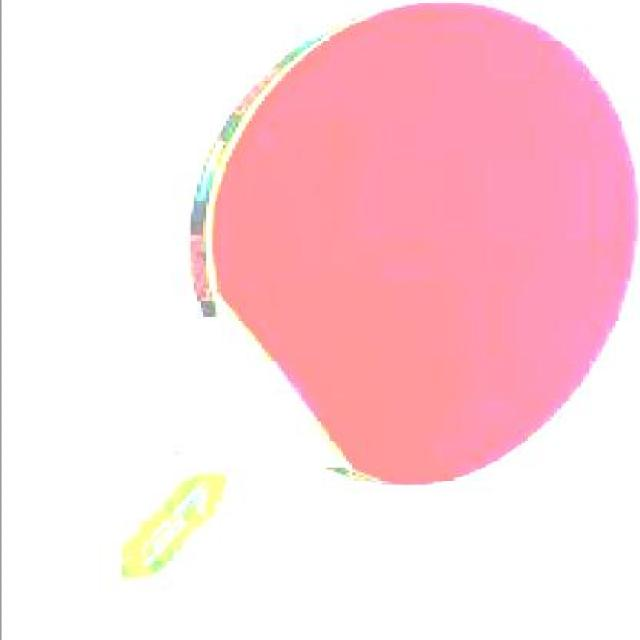table_tennis_racket: (184, 1, 640, 499)
